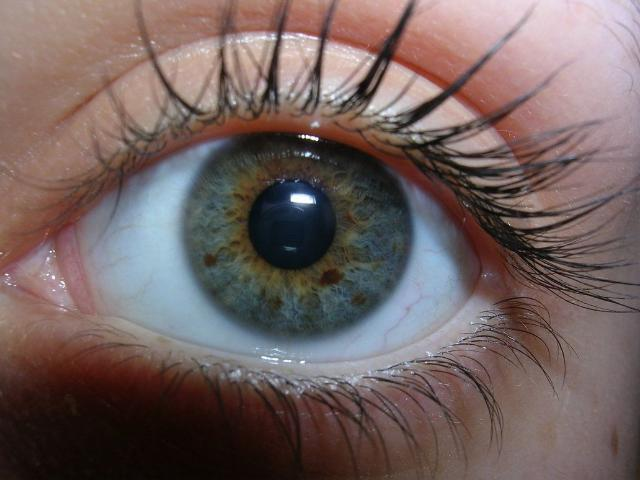eye: (185, 122, 418, 336)
